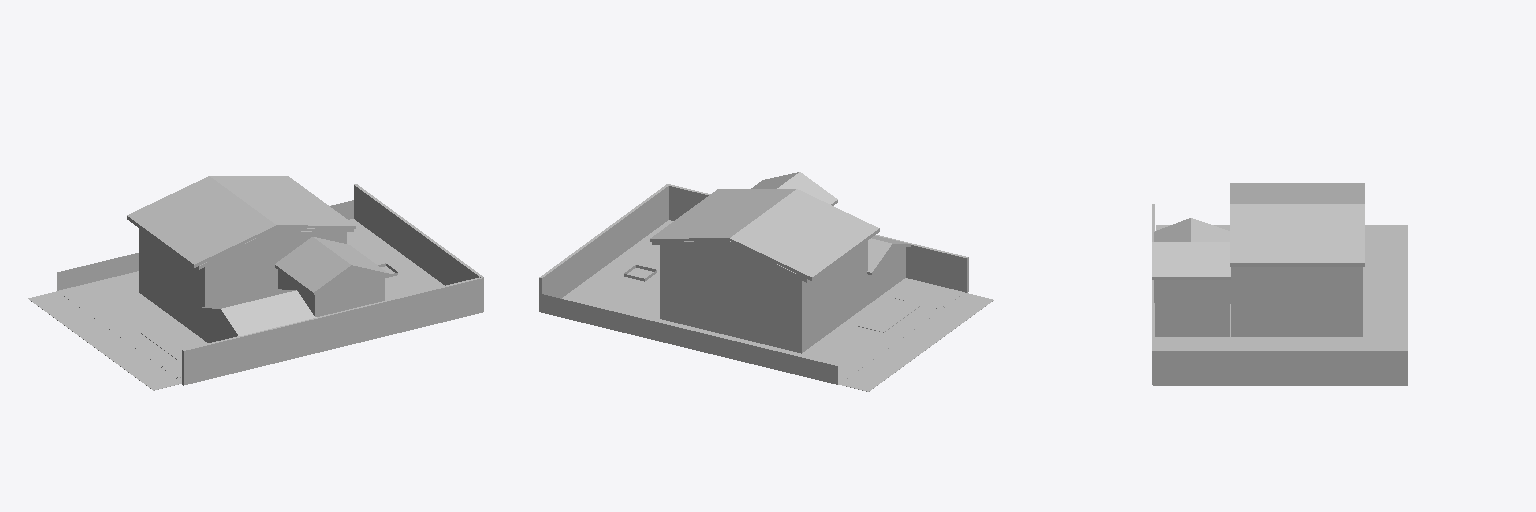
The model's file is proyectoFinal.obj.
The picture shows the model from 3 angles: view 1: azimuth 30°, elevation 25°; view 2: azimuth 150°, elevation 25°; view 3: azimuth 270°, elevation 25°; orthographic projection.
Parts seen in each view (by area): view 1: pCube6; view 2: pCube6; view 3: pCube6.
Part boxes in pixels (x1,y1,x2,y2): pCube6: (28,176,483,390); pCube6: (539,172,993,391); pCube6: (1152,183,1407,385).
Size of the model in its own units: 310 by 89.88 by 209.